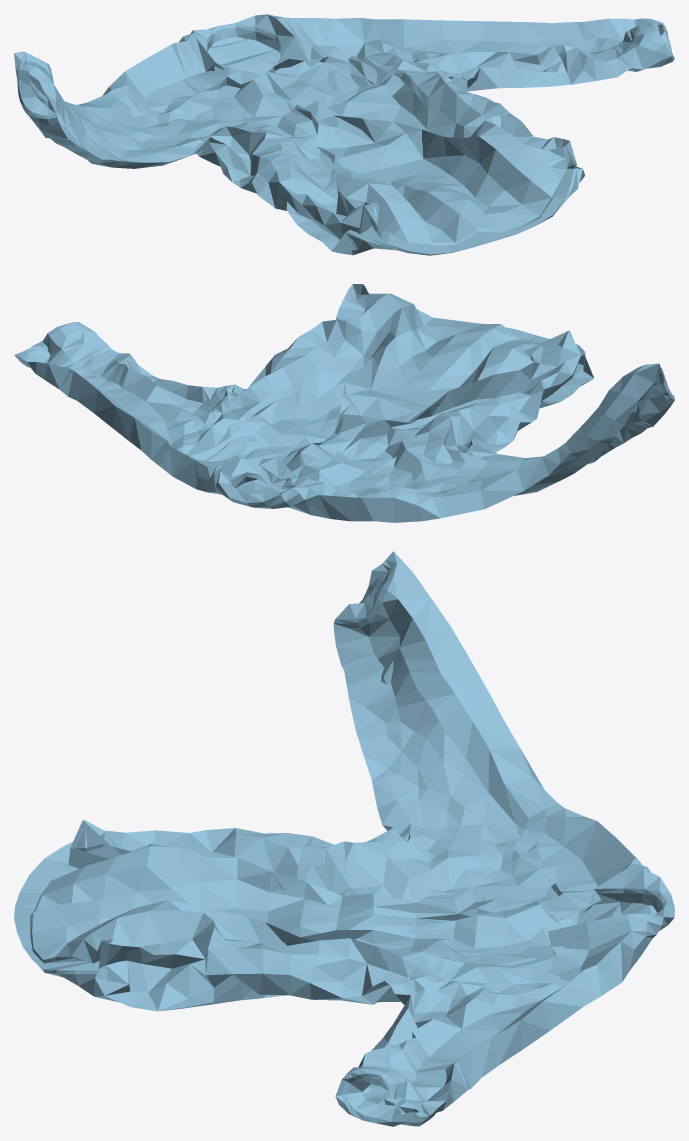
Rendered from frame_03.glb.
3 views of the same model, one above another, from view 1: azimuth 30°, elevation 25°; view 2: azimuth 150°, elevation 25°; view 3: azimuth 270°, elevation 25° (orthographic). The views are drawn at different scales.
Parts seen in each view (by area): view 1: frame_03.obj; view 2: frame_03.obj; view 3: frame_03.obj.
Part boxes in pixels (x1=…): frame_03.obj: x1=14, y1=14, x2=674, y2=255; frame_03.obj: x1=14, y1=284, x2=674, y2=522; frame_03.obj: x1=14, y1=551, x2=674, y2=1126.
Bounding box in the file's own units: 1.95 × 0.4848 × 1.38.
